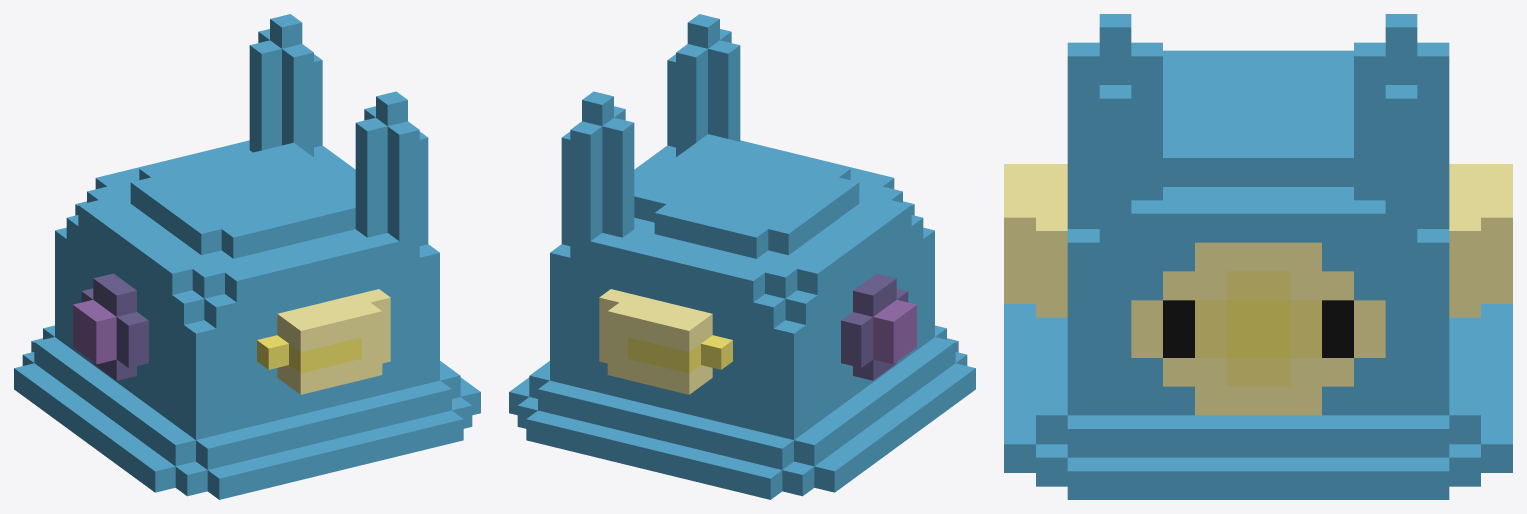
Rendered from slime11123124.obj.
3 views of the same model, side by side, from view 1: azimuth 30°, elevation 25°; view 2: azimuth 150°, elevation 25°; view 3: azimuth 270°, elevation 25° (orthographic). The views are drawn at different scales.
Size of the model in its own units: 1.6 by 1.5 by 1.6.
1 material, 1 textured.
